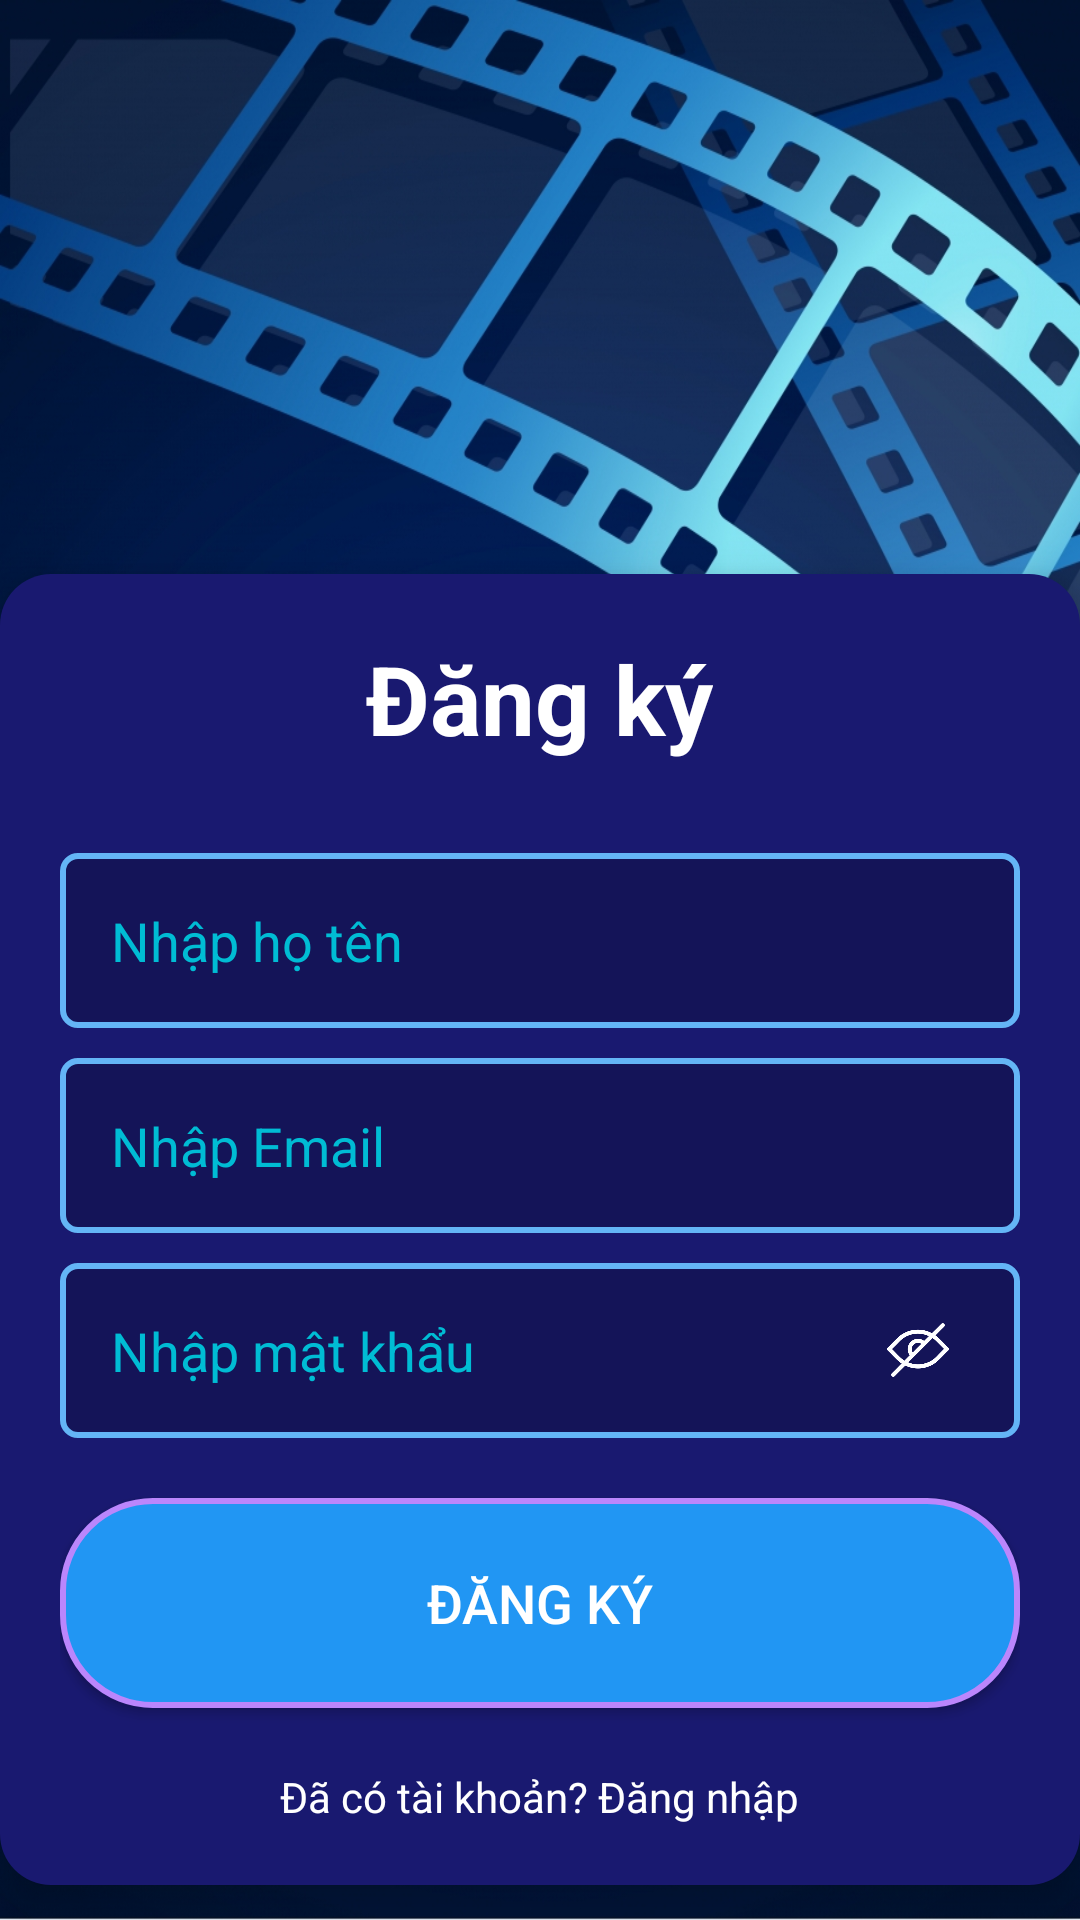

Screen size 1080px x 1920px. Icon name, then its box in pixels as (x1, y1, x2, y2):
Toggle Password Visibility: (887, 1323, 949, 1377)
